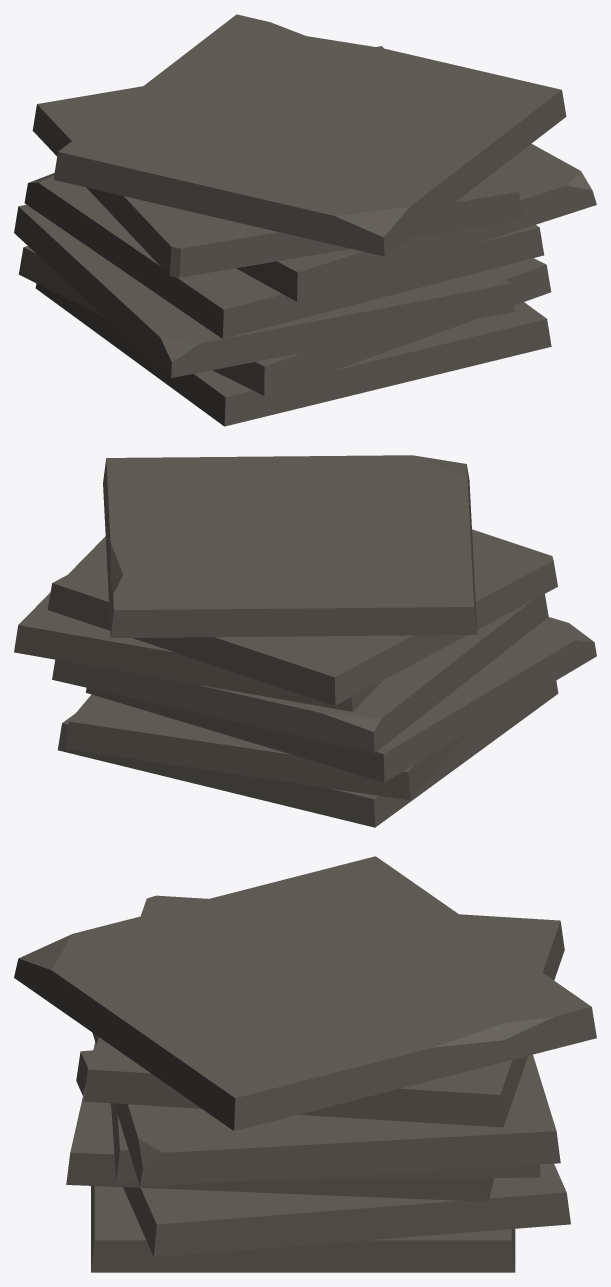
File: SM_Prop_Tile_Stack_02.fbx
3 views of the same model, one above another, from view 1: azimuth 30°, elevation 25°; view 2: azimuth 150°, elevation 25°; view 3: azimuth 270°, elevation 25° (orthographic). The views are drawn at different scales.
Parts seen in each view (by area): view 1: SM_Prop_Tile_Stack_02; view 2: SM_Prop_Tile_Stack_02; view 3: SM_Prop_Tile_Stack_02.
Part boxes in pixels (<box>): SM_Prop_Tile_Stack_02: <box>14,14,596,426</box>; SM_Prop_Tile_Stack_02: <box>14,455,596,827</box>; SM_Prop_Tile_Stack_02: <box>14,856,596,1272</box>.
Bounding box in the file's own units: 69.12 × 28 × 68.68.
